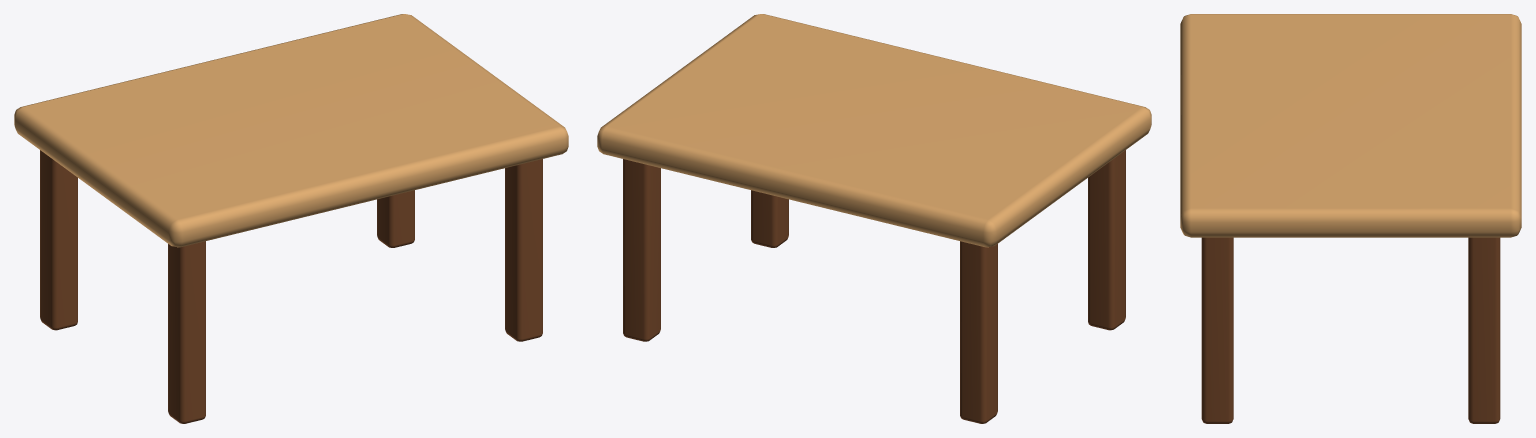
The model's file is table_low.glb.
3 renders of one model, left to right at view 1: azimuth 30°, elevation 25°; view 2: azimuth 150°, elevation 25°; view 3: azimuth 270°, elevation 25°, orthographic. The views are drawn at different scales.
Parts seen in each view (by area): view 1: Top, Leg, Leg.002, Leg.001, Leg.003; view 2: Top, Leg.001, Leg.003, Leg, Leg.002; view 3: Top, Leg.002, Leg.003.
Part boxes in pixels (x1,y1,x2,y2): Top: (14, 14, 568, 247); Leg: (168, 241, 205, 423); Leg.002: (505, 159, 542, 341); Leg.001: (40, 150, 77, 330); Leg.003: (377, 190, 414, 247); Top: (597, 14, 1151, 247); Leg.001: (960, 241, 997, 423); Leg.003: (623, 159, 660, 341); Leg: (1088, 150, 1125, 330); Leg.002: (751, 190, 788, 247); Top: (1180, 14, 1521, 237); Leg.002: (1201, 237, 1233, 423); Leg.003: (1468, 237, 1500, 423).
Bounding box in the file's own units: 0.9 × 0.46 × 0.64.
